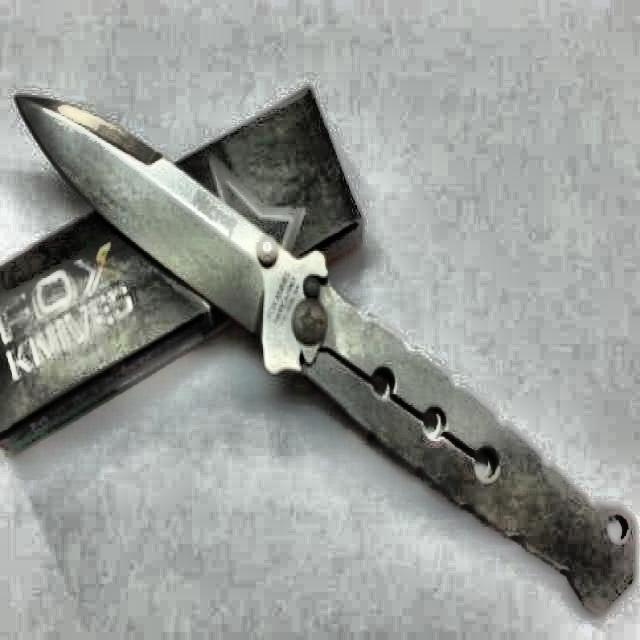knife: (18, 99, 639, 617)
